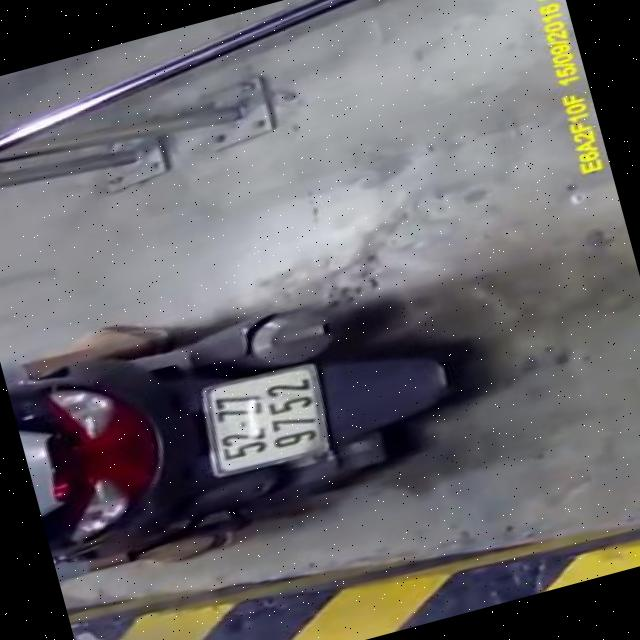license_plate: (189, 356, 343, 482)
